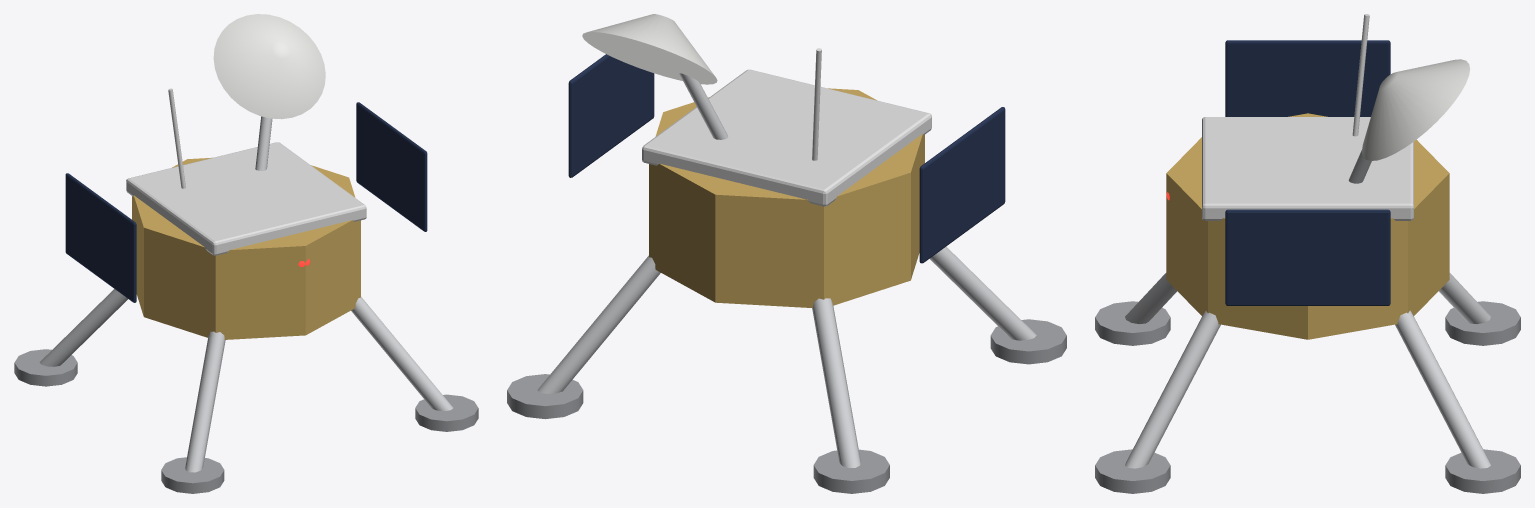
The model's file is probe-lander.glb.
3 views of the same model, side by side, from view 1: azimuth 30°, elevation 25°; view 2: azimuth 150°, elevation 25°; view 3: azimuth 270°, elevation 25° (orthographic). The views are drawn at different scales.
Parts seen in each view (by area): view 1: bus, deck, dish, panel_1, panel_-1, leg_2, leg_3, leg_1, pad_2, pad_3, pad_1, mast (+1 smaller); view 2: bus, deck, panel_-1, panel_1, dish, leg_1, leg_0, leg_2, pad_1, pad_0, pad_2, mast (+1 smaller); view 3: bus, deck, panel_1, panel_-1, dish, leg_0, leg_3, pad_0, pad_3, pad_1, pad_2, leg_1 (+2 smaller).
Boxes of the visible parts, x1=… form: bus: x1=132, y1=157, x2=360, y2=339; deck: x1=126, y1=142, x2=366, y2=255; dish: x1=213, y1=14, x2=325, y2=119; panel_1: x1=356, y1=102, x2=427, y2=231; panel_-1: x1=65, y1=173, x2=136, y2=302; leg_2: x1=185, y1=331, x2=225, y2=472; leg_3: x1=351, y1=296, x2=452, y2=410; leg_1: x1=39, y1=289, x2=127, y2=366; pad_2: x1=161, y1=457, x2=224, y2=493; pad_3: x1=415, y1=394, x2=478, y2=431; pad_1: x1=14, y1=349, x2=77, y2=386; mast: x1=255, y1=116, x2=272, y2=170; bus: x1=649, y1=88, x2=924, y2=307; deck: x1=642, y1=69, x2=931, y2=206; panel_-1: x1=919, y1=107, x2=1005, y2=263; panel_1: x1=568, y1=54, x2=654, y2=177; dish: x1=582, y1=14, x2=717, y2=84; leg_1: x1=812, y1=298, x2=860, y2=467; leg_0: x1=537, y1=255, x2=660, y2=393; leg_2: x1=929, y1=246, x2=1036, y2=340; pad_1: x1=813, y1=449, x2=889, y2=493; pad_0: x1=507, y1=374, x2=583, y2=419; pad_2: x1=990, y1=319, x2=1066, y2=364; mast: x1=679, y1=73, x2=727, y2=139; bus: x1=1166, y1=113, x2=1449, y2=339; deck: x1=1202, y1=117, x2=1413, y2=220; panel_1: x1=1225, y1=209, x2=1390, y2=305; panel_-1: x1=1225, y1=40, x2=1390, y2=116; dish: x1=1361, y1=59, x2=1469, y2=160; leg_0: x1=1395, y1=310, x2=1490, y2=468; leg_3: x1=1125, y1=310, x2=1220, y2=468; pad_0: x1=1445, y1=449, x2=1520, y2=493; pad_3: x1=1095, y1=449, x2=1170, y2=493; pad_1: x1=1445, y1=301, x2=1520, y2=345; pad_2: x1=1095, y1=301, x2=1170, y2=345; leg_1: x1=1439, y1=273, x2=1490, y2=323.
Bounding box in the file's own units: 2.26 × 2.19 × 2.26.
